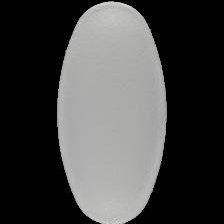0615-3559: (0, 0, 224, 224)
